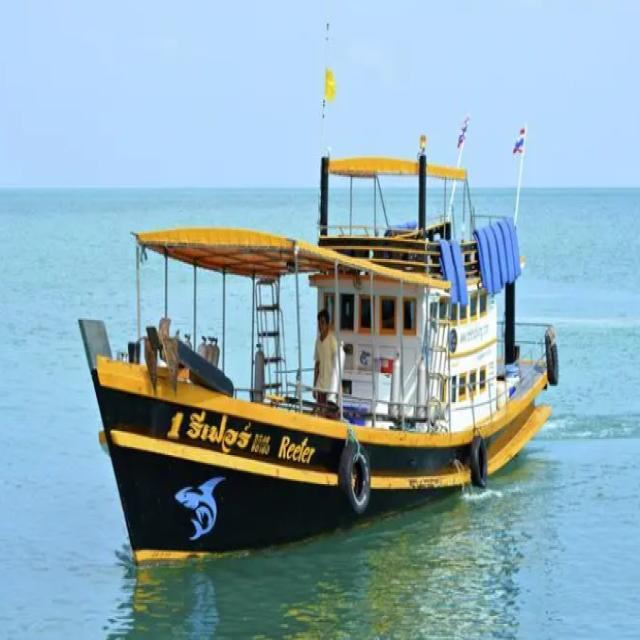fishing boat: (78, 138, 562, 556)
